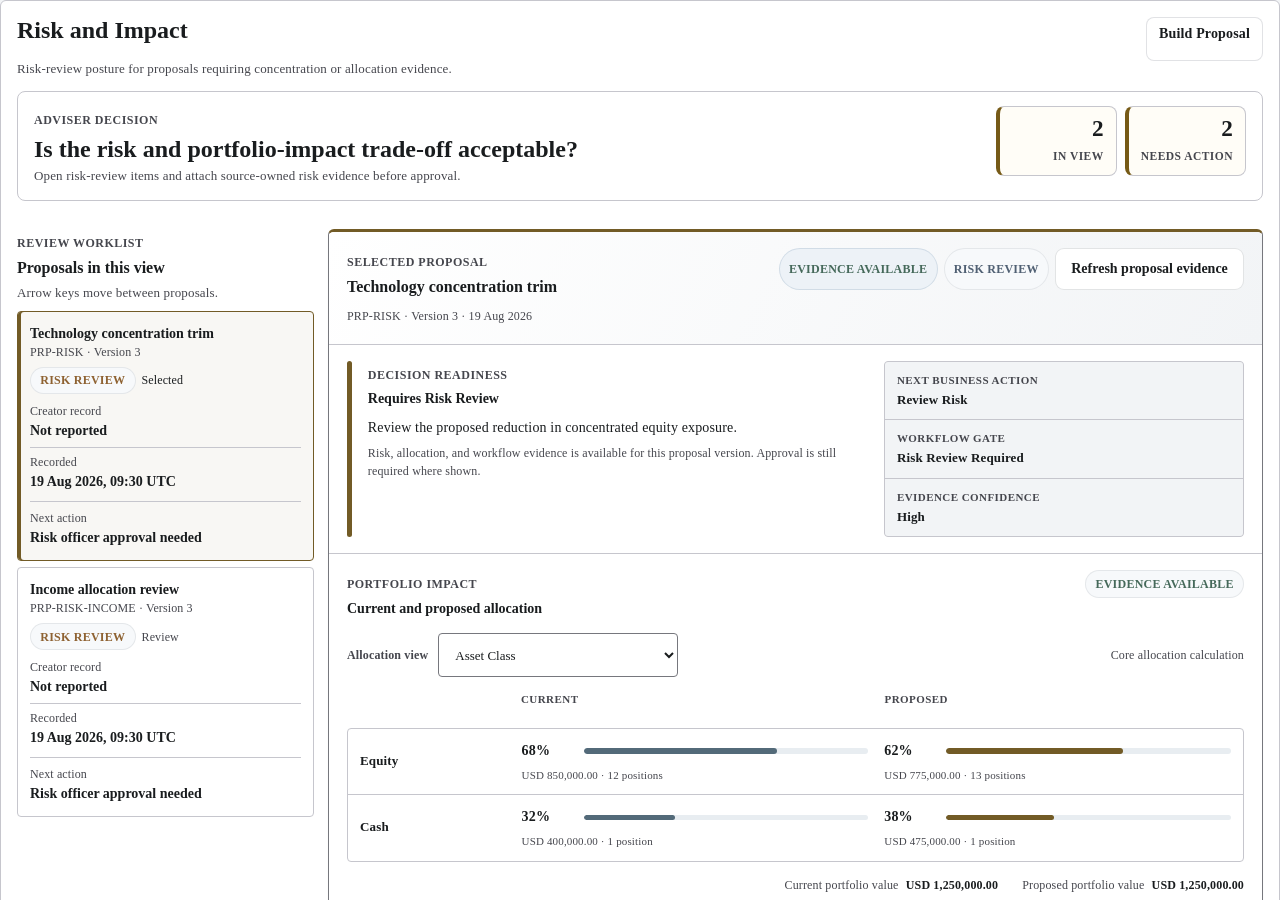
Test: ProposalLifecycleWorkspace › reads detail only for the selected proposal instead of fanning out across the worklist
expect the heading "Technology concentration trim" is shown: met, box [347,277,557,298]
Click the option "Income allocation review" at point(166, 692), box [17,567,314,817]
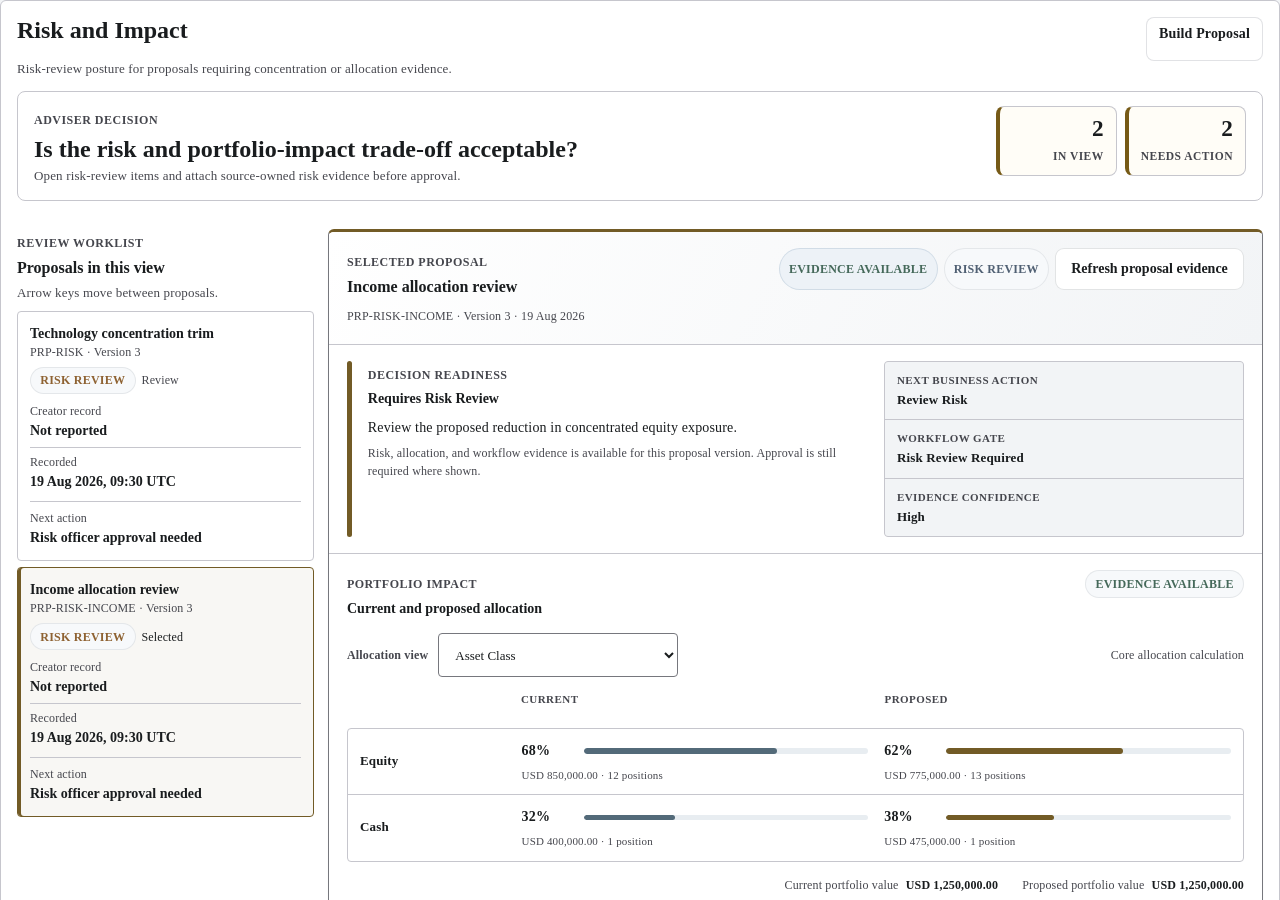
expect the heading "Income allocation review" is shown: met, box [347,278,517,295]
